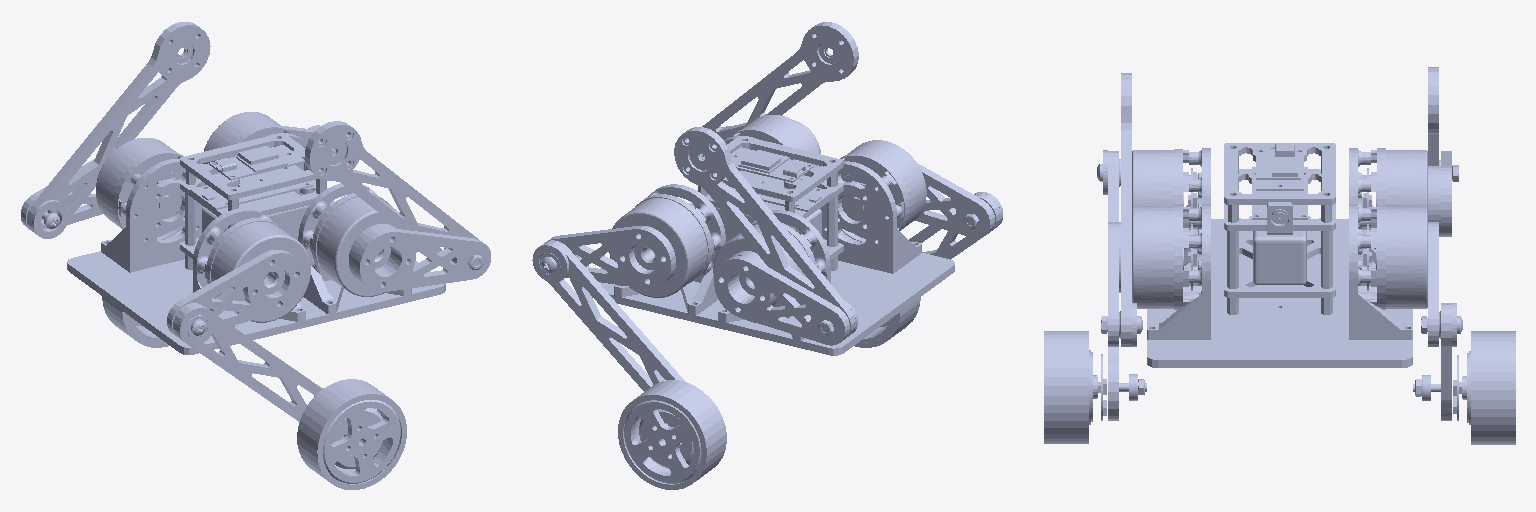
robot.urdf — foc_urdf_new:
<?xml version="1.0" encoding="utf-8"?>
<!-- This URDF was automatically created by SolidWorks to URDF Exporter! Originally created by [author] ([email redacted]) 
     Commit Version: 1.6.0-4-g7f85cfe  Build Version: 1.6.7995.38578
     For more information, please see http://wiki.ros.org/sw_urdf_exporter -->
<robot
  name="foc_urdf_new">
  <link
    name="base_link">
    <inertial>
      <origin
        xyz="4.0984E-05 2.3726E-06 0.020422"
        rpy="0 0 0" />
      <mass
        value="0.31081" />
      <inertia
        ixx="0.00013006"
        ixy="1.4002E-09"
        ixz="-5.5833E-08"
        iyy="0.00021208"
        iyz="-1.5623E-09"
        izz="0.00027627" />
    </inertial>
    <visual>
      <origin
        xyz="0 0 0"
        rpy="0 0 0" />
      <geometry>
        <mesh
          filename="package://foc_urdf_new/meshes/base_link.STL" />
      </geometry>
      <material
        name="">
        <color
          rgba="0.79216 0.81961 0.93333 1" />
      </material>
    </visual>
    <collision>
      <origin
        xyz="0 0 0"
        rpy="0 0 0" />
      <geometry>
        <mesh
          filename="package://foc_urdf_new/meshes/base_link.STL" />
      </geometry>
    </collision>
  </link>
  <link
    name="leg01_left">
    <inertial>
      <origin
        xyz="0.022488 0.0049968 0.002736"
        rpy="0 0 0" />
      <mass
        value="0.0077756" />
      <inertia
        ixx="6.3945E-07"
        ixy="-5.1343E-07"
        ixz="1.2662E-08"
        iyy="2.8361E-06"
        iyz="2.8135E-09"
        izz="3.4245E-06" />
    </inertial>
    <visual>
      <origin
        xyz="0 0 0"
        rpy="0 0 0" />
      <geometry>
        <mesh
          filename="package://foc_urdf_new/meshes/leg01_left.STL" />
      </geometry>
      <material
        name="">
        <color
          rgba="0.79216 0.81961 0.93333 1" />
      </material>
    </visual>
    <collision>
      <origin
        xyz="0 0 0"
        rpy="0 0 0" />
      <geometry>
        <mesh
          filename="package://foc_urdf_new/meshes/leg01_left.STL" />
      </geometry>
    </collision>
  </link>
  <joint
    name="joint01_left"
    type="revolute">
    <origin
      xyz="0.0299960292290543 0.0665 0.0299999999999996"
      rpy="-1.5707963267949 0 0" />
    <parent
      link="base_link" />
    <child
      link="leg01_left" />
    <axis
      xyz="0 0 -1" />
    <limit
      lower="-1.919"
      upper="1.221"
      effort="0"
      velocity="0" />
  </joint>
  <link
    name="leg12_left">
    <inertial>
      <origin
        xyz="-0.04707 0.040439 0.0035388"
        rpy="0 0 0" />
      <mass
        value="0.012283" />
      <inertia
        ixx="5.9673E-06"
        ixy="6.2672E-06"
        ixz="7.2612E-09"
        iyy="7.8687E-06"
        iyz="-5.7403E-09"
        izz="1.3777E-05" />
    </inertial>
    <visual>
      <origin
        xyz="0 0 0"
        rpy="0 0 0" />
      <geometry>
        <mesh
          filename="package://foc_urdf_new/meshes/leg12_left.STL" />
      </geometry>
      <material
        name="">
        <color
          rgba="0.79216 0.81961 0.93333 1" />
      </material>
    </visual>
    <collision>
      <origin
        xyz="0 0 0"
        rpy="0 0 0" />
      <geometry>
        <mesh
          filename="package://foc_urdf_new/meshes/leg12_left.STL" />
      </geometry>
    </collision>
  </link>
  <joint
    name="joint12_left"
    type="revolute">
    <origin
      xyz="0.0488096092049292 0.0108453699458375 0.005"
      rpy="0 0 0" />
    <parent
      link="leg01_left" />
    <child
      link="leg12_left" />
    <axis
      xyz="0 0 1" />
    <limit
      lower="0"
      upper="0"
      effort="0"
      velocity="0" />
  </joint>
  <link
    name="tire_left">
    <inertial>
      <origin
        xyz="7.036E-15 5.9952E-15 0.013352"
        rpy="0 0 0" />
      <mass
        value="0.032805" />
      <inertia
        ixx="6.3145E-06"
        ixy="7.9409E-22"
        ixz="1.752E-21"
        iyy="6.3145E-06"
        iyz="-2.3692E-21"
        izz="1.0579E-05" />
    </inertial>
    <visual>
      <origin
        xyz="0 0 0"
        rpy="0 0 0" />
      <geometry>
        <mesh
          filename="package://foc_urdf_new/meshes/tire_left.STL" />
      </geometry>
      <material
        name="">
        <color
          rgba="0.79216 0.81961 0.93333 1" />
      </material>
    </visual>
    <collision>
      <origin
        xyz="0 0 0"
        rpy="0 0 0" />
      <geometry>
        <mesh
          filename="package://foc_urdf_new/meshes/tire_left.STL" />
      </geometry>
    </collision>
  </link>
  <joint
    name="joint_tire_left"
    type="revolute">
    <origin
      xyz="-0.0796741733500656 0.0683887863686989 0.0105000000000001"
      rpy="0 0 0" />
    <parent
      link="leg12_left" />
    <child
      link="tire_left" />
    <axis
      xyz="0 0 1" />
    <limit
      lower="0"
      upper="0"
      effort="0"
      velocity="0" />
  </joint>
  <link
    name="leg04_left">
    <inertial>
      <origin
        xyz="-0.013254 0.002494 0.0067355"
        rpy="0 0 0" />
      <mass
        value="0.010434" />
      <inertia
        ixx="8.7662E-07"
        ixy="4.4066E-07"
        ixz="1.2747E-08"
        iyy="3.1356E-06"
        iyz="-2.3986E-09"
        izz="3.9628E-06" />
    </inertial>
    <visual>
      <origin
        xyz="0 0 0"
        rpy="0 0 0" />
      <geometry>
        <mesh
          filename="package://foc_urdf_new/meshes/leg04_left.STL" />
      </geometry>
      <material
        name="">
        <color
          rgba="0.79216 0.81961 0.93333 1" />
      </material>
    </visual>
    <collision>
      <origin
        xyz="0 0 0"
        rpy="0 0 0" />
      <geometry>
        <mesh
          filename="package://foc_urdf_new/meshes/leg04_left.STL" />
      </geometry>
    </collision>
  </link>
  <joint
    name="joint04_left"
    type="revolute">
    <origin
      xyz="-0.0300039707709457 0.0665 0.0299999999999996"
      rpy="-1.5707963267949 0 0" />
    <parent
      link="base_link" />
    <child
      link="leg04_left" />
    <axis
      xyz="0 0 -1" />
    <limit
      lower="0"
      upper="0"
      effort="0"
      velocity="0" />
  </joint>
  <link
    name="leg43_left">
    <inertial>
      <origin
        xyz="0.040242 0.035984 -0.0024358"
        rpy="0 0 0" />
      <mass
        value="0.011156" />
      <inertia
        ixx="6.1803E-06"
        ixy="-6.2998E-06"
        ixz="7.25E-09"
        iyy="7.5767E-06"
        iyz="6.4822E-09"
        izz="1.3691E-05" />
    </inertial>
    <visual>
      <origin
        xyz="0 0 0"
        rpy="0 0 0" />
      <geometry>
        <mesh
          filename="package://foc_urdf_new/meshes/leg43_left.STL" />
      </geometry>
      <material
        name="">
        <color
          rgba="0.79216 0.81961 0.93333 1" />
      </material>
    </visual>
    <collision>
      <origin
        xyz="0 0 0"
        rpy="0 0 0" />
      <geometry>
        <mesh
          filename="package://foc_urdf_new/meshes/leg43_left.STL" />
      </geometry>
    </collision>
  </link>
  <joint
    name="joint43_left"
    type="revolute">
    <origin
      xyz="-0.0491376538616214 0.00924613286598304 0.00500000000000019"
      rpy="0 0 0" />
    <parent
      link="leg04_left" />
    <child
      link="leg43_left" />
    <axis
      xyz="0 0 -1" />
    <limit
      lower="0.524"
      upper="2.443"
      effort="0"
      velocity="0" />
  </joint>
  <link
    name="leg01_right">
    <inertial>
      <origin
        xyz="-0.022673 0.0040767 -0.002736"
        rpy="0 0 0" />
      <mass
        value="0.0077756" />
      <inertia
        ixx="6.013E-07"
        ixy="4.2234E-07"
        ixz="1.2766E-08"
        iyy="2.8742E-06"
        iyz="-2.2955E-09"
        izz="3.4245E-06" />
    </inertial>
    <visual>
      <origin
        xyz="0 0 0"
        rpy="0 0 0" />
      <geometry>
        <mesh
          filename="package://foc_urdf_new/meshes/leg01_right.STL" />
      </geometry>
      <material
        name="">
        <color
          rgba="0.79216 0.81961 0.93333 1" />
      </material>
    </visual>
    <collision>
      <origin
        xyz="0 0 0"
        rpy="0 0 0" />
      <geometry>
        <mesh
          filename="package://foc_urdf_new/meshes/leg01_right.STL" />
      </geometry>
    </collision>
  </link>
  <joint
    name="joint01_right"
    type="revolute">
    <origin
      xyz="-0.0300039707709457 -0.0665 0.0299999999999996"
      rpy="-1.5707963267949 0 0" />
    <parent
      link="base_link" />
    <child
      link="leg01_right" />
    <axis
      xyz="0 0 1" />
    <limit
      lower="-1.919"
      upper="1.221"
      effort="0"
      velocity="0" />
  </joint>
  <link
    name="leg12_right">
    <inertial>
      <origin
        xyz="0.046186 0.041445 -0.0015388"
        rpy="0 0 0" />
      <mass
        value="0.012283" />
      <inertia
        ixx="6.2385E-06"
        ixy="-6.3024E-06"
        ixz="7.1356E-09"
        iyy="7.5975E-06"
        iyz="5.8957E-09"
        izz="1.3777E-05" />
    </inertial>
    <visual>
      <origin
        xyz="0 0 0"
        rpy="0 0 0" />
      <geometry>
        <mesh
          filename="package://foc_urdf_new/meshes/leg12_right.STL" />
      </geometry>
      <material
        name="">
        <color
          rgba="0.79216 0.81961 0.93333 1" />
      </material>
    </visual>
    <collision>
      <origin
        xyz="0 0 0"
        rpy="0 0 0" />
      <geometry>
        <mesh
          filename="package://foc_urdf_new/meshes/leg12_right.STL" />
      </geometry>
    </collision>
  </link>
  <joint
    name="joint12_right"
    type="revolute">
    <origin
      xyz="-0.0492108308095336 0.00884839708848127 -0.00700000000000012"
      rpy="0 0 0" />
    <parent
      link="leg01_right" />
    <child
      link="leg12_right" />
    <axis
      xyz="0 0 -1" />
    <limit
      lower="0"
      upper="0"
      effort="0"
      velocity="0" />
  </joint>
  <link
    name="tire_right">
    <inertial>
      <origin
        xyz="-5.3013E-15 -9.6728E-15 -0.013352"
        rpy="0 0 0" />
      <mass
        value="0.032805" />
      <inertia
        ixx="6.3145E-06"
        ixy="1.9819E-21"
        ixz="3.993E-21"
        iyy="6.3145E-06"
        iyz="-7.3106E-21"
        izz="1.0579E-05" />
    </inertial>
    <visual>
      <origin
        xyz="0 0 0"
        rpy="0 0 0" />
      <geometry>
        <mesh
          filename="package://foc_urdf_new/meshes/tire_right.STL" />
      </geometry>
      <material
        name="">
        <color
          rgba="0.79216 0.81961 0.93333 1" />
      </material>
    </visual>
    <collision>
      <origin
        xyz="0 0 0"
        rpy="0 0 0" />
      <geometry>
        <mesh
          filename="package://foc_urdf_new/meshes/tire_right.STL" />
      </geometry>
    </collision>
  </link>
  <joint
    name="joint_tire_right"
    type="revolute">
    <origin
      xyz="0.07818 0.070092 -0.0085"
      rpy="0 0 0" />
    <parent
      link="leg12_right" />
    <child
      link="tire_right" />
    <axis
      xyz="0 0 -1" />
    <limit
      lower="0"
      upper="0"
      effort="0"
      velocity="0" />
  </joint>
  <link
    name="leg04_right">
    <inertial>
      <origin
        xyz="0.013171 0.0029041 -0.0067355"
        rpy="0 0 0" />
      <mass
        value="0.010434" />
      <inertia
        ixx="9.0613E-07"
        ixy="-5.0987E-07"
        ixz="1.2667E-08"
        iyy="3.1061E-06"
        iyz="2.793E-09"
        izz="3.9628E-06" />
    </inertial>
    <visual>
      <origin
        xyz="0 0 0"
        rpy="0 0 0" />
      <geometry>
        <mesh
          filename="package://foc_urdf_new/meshes/leg04_right.STL" />
      </geometry>
      <material
        name="">
        <color
          rgba="0.79216 0.81961 0.93333 1" />
      </material>
    </visual>
    <collision>
      <origin
        xyz="0 0 0"
        rpy="0 0 0" />
      <geometry>
        <mesh
          filename="package://foc_urdf_new/meshes/leg04_right.STL" />
      </geometry>
    </collision>
  </link>
  <joint
    name="joint04_right"
    type="revolute">
    <origin
      xyz="0.029996 -0.0665 0.03"
      rpy="-1.5708 0 0" />
    <parent
      link="base_link" />
    <child
      link="leg04_right" />
    <axis
      xyz="0 0 1" />
    <limit
      lower="0"
      upper="0"
      effort="0"
      velocity="0" />
  </joint>
  <link
    name="leg43_right">
    <inertial>
      <origin
        xyz="-0.041057 0.035051 0.0054358"
        rpy="0 0 0" />
      <mass
        value="0.011156" />
      <inertia
        ixx="5.8921E-06"
        ixy="6.2611E-06"
        ixz="7.3967E-09"
        iyy="7.865E-06"
        iyz="-6.3142E-09"
        izz="1.3691E-05" />
    </inertial>
    <visual>
      <origin
        xyz="0 0 0"
        rpy="0 0 0" />
      <geometry>
        <mesh
          filename="package://foc_urdf_new/meshes/leg43_right.STL" />
      </geometry>
      <material
        name="">
        <color
          rgba="0.79216 0.81961 0.93333 1" />
      </material>
    </visual>
    <collision>
      <origin
        xyz="0 0 0"
        rpy="0 0 0" />
      <geometry>
        <mesh
          filename="package://foc_urdf_new/meshes/leg43_right.STL" />
      </geometry>
    </collision>
  </link>
  <joint
    name="joint43_right"
    type="revolute">
    <origin
      xyz="0.048827 0.010766 -0.008"
      rpy="0 0 0" />
    <parent
      link="leg04_right" />
    <child
      link="leg43_right" />
    <axis
      xyz="0 0 1" />
    <limit
      lower="0.524"
      upper="2.443"
      effort="0"
      velocity="0" />
  </joint>
</robot>

--- What the picture shows (computed from the rendered views, not written in the file) ---
3 views of the same robot in one strip: view 1: azimuth 30°, elevation 25°; view 2: azimuth 150°, elevation 25°; view 3: azimuth 270°, elevation 25° (orthographic).
Robot: foc_urdf_new — 11 links, 10 joints (10 revolute); root link base_link; default pose: joints at zero except 2 at the middle of their limits (joint43_left = 1.48, joint43_right = 1.48).
Visible links, largest first — view 1: base_link, leg43_left, tire_right, leg04_right, leg43_right, leg01_right, leg12_right, tire_left, leg04_left; view 2: base_link, tire_left, leg43_left, leg04_left, leg12_left, leg43_right, leg01_left, leg01_right, leg12_right, tire_right; view 3: base_link, tire_left, tire_right, leg43_right, leg12_right, leg12_left, leg04_left, leg01_left, leg04_right, leg43_left.
Boxes of the visible links, x1=… form: base_link: x1=67, y1=112, x2=445, y2=354; leg43_left: x1=27, y1=22, x2=210, y2=238; tire_right: x1=297, y1=379, x2=406, y2=489; leg04_right: x1=349, y1=224, x2=490, y2=291; leg43_right: x1=305, y1=121, x2=483, y2=269; leg01_right: x1=167, y1=250, x2=303, y2=336; leg12_right: x1=173, y1=303, x2=323, y2=422; tire_left: x1=102, y1=296, x2=169, y2=347; leg04_left: x1=21, y1=159, x2=102, y2=231; base_link: x1=592, y1=115, x2=954, y2=355; tire_left: x1=618, y1=380, x2=726, y2=489; leg43_left: x1=674, y1=127, x2=857, y2=336; leg04_left: x1=714, y1=251, x2=849, y2=345; leg12_left: x1=532, y1=240, x2=717, y2=407; leg43_right: x1=700, y1=22, x2=858, y2=158; leg01_left: x1=541, y1=226, x2=675, y2=288; leg01_right: x1=915, y1=162, x2=994, y2=238; leg12_right: x1=909, y1=192, x2=1002, y2=259; tire_right: x1=854, y1=297, x2=920, y2=347; base_link: x1=1132, y1=143, x2=1427, y2=367; tire_left: x1=1462, y1=331, x2=1515, y2=444; tire_right: x1=1044, y1=331, x2=1097, y2=443; leg43_right: x1=1101, y1=73, x2=1142, y2=346; leg12_right: x1=1098, y1=150, x2=1146, y2=420; leg12_left: x1=1413, y1=303, x2=1461, y2=420; leg04_left: x1=1428, y1=151, x2=1451, y2=236; leg01_left: x1=1421, y1=222, x2=1462, y2=346; leg04_right: x1=1108, y1=222, x2=1120, y2=346; leg43_left: x1=1428, y1=67, x2=1458, y2=181.
Size in the robot's own frame: 0.178 by 0.212 by 0.1825 metres.
Meshes: 11 distinct files referenced, 11 mesh visuals loaded (11 binary STL).